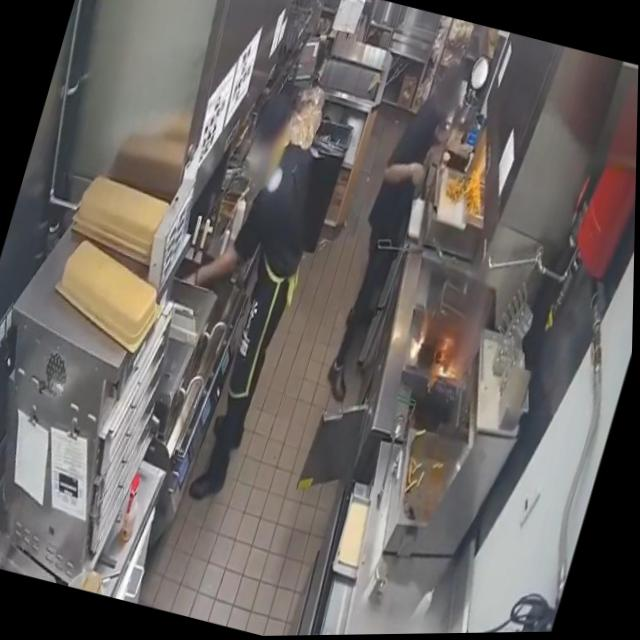fire: (437, 363, 458, 384)
